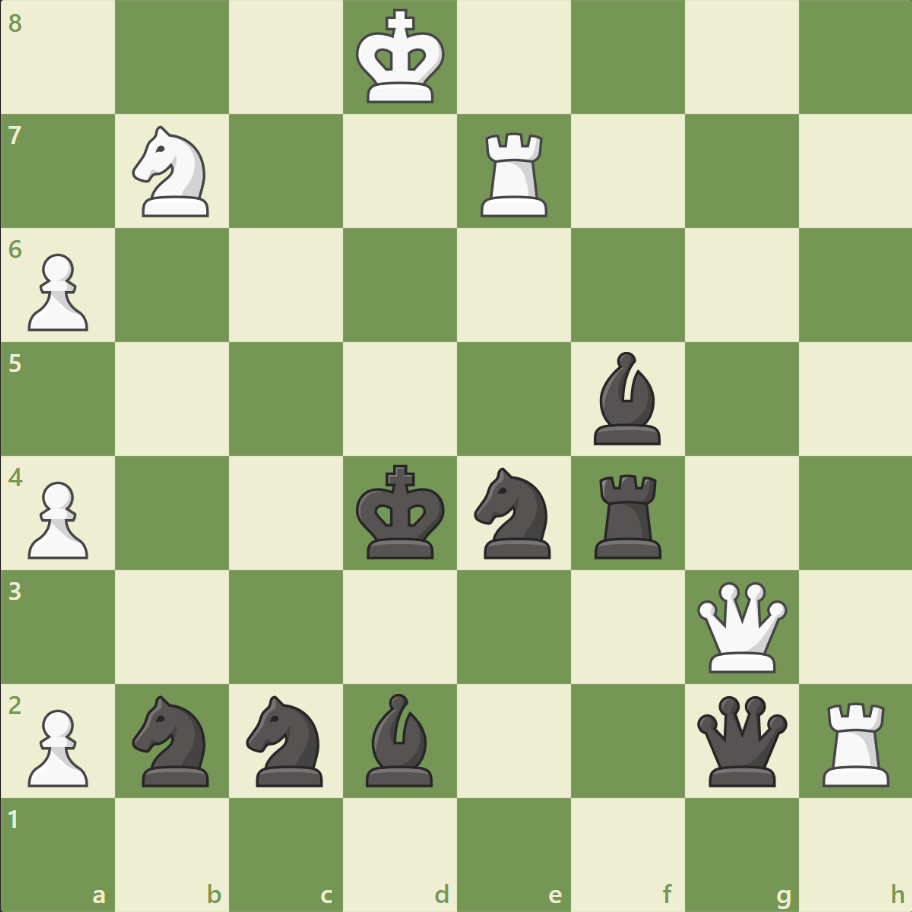K: (351, 4, 451, 112)
N: (124, 121, 222, 223)
P: (20, 246, 95, 337), (20, 473, 95, 564), (20, 700, 95, 791)
Q: (691, 576, 790, 676)
R: (473, 125, 556, 222), (814, 693, 897, 790)
b: (358, 687, 442, 790), (585, 347, 669, 449)
k: (351, 458, 451, 566)
n: (124, 688, 222, 791), (465, 461, 562, 564), (238, 688, 335, 791)
q: (691, 690, 790, 789)
r: (587, 466, 670, 563)
